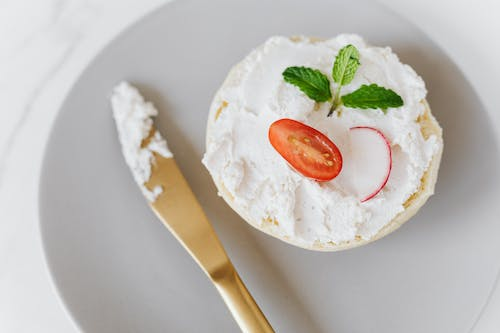knife: (110, 78, 276, 333)
